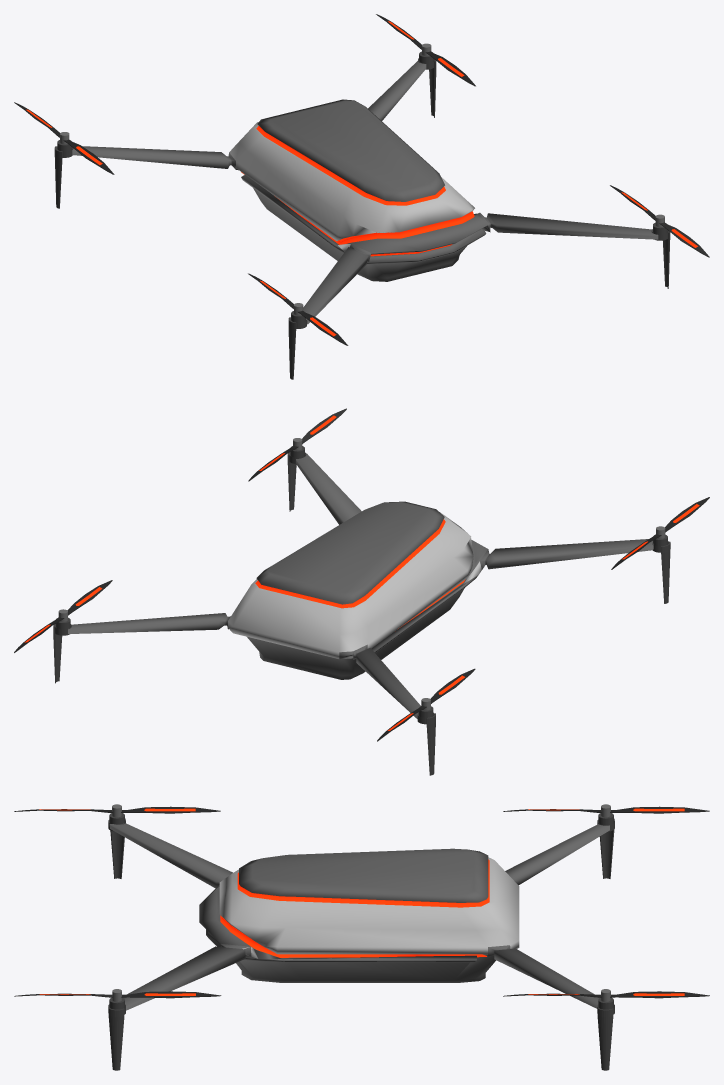
Rendered from drone.glb.
3 renders of one model, top to bottom at view 1: azimuth 30°, elevation 25°; view 2: azimuth 150°, elevation 25°; view 3: azimuth 270°, elevation 25°, orthographic. The views are drawn at different scales.
Parts seen in each view (by area): view 1: Cube, Leg, Leg.001; view 2: Cube, Leg, Leg.001, Leg.002; view 3: Cube, Leg.003, Leg.002, Leg, Leg.001, Cube.009, Cube.005, Cube.001, Cube.003.
Boxes of the visible parts, x1,y1,x2,y2 form: Cube: [72, 61, 658, 324]; Leg: [54, 140, 73, 208]; Leg.001: [288, 311, 306, 379]; Cube: [68, 453, 653, 718]; Leg: [417, 706, 435, 775]; Leg.001: [652, 534, 670, 603]; Leg.002: [53, 617, 71, 683]; Cube: [109, 823, 609, 1010]; Leg.003: [108, 997, 125, 1070]; Leg.002: [597, 997, 614, 1070]; Leg: [597, 813, 614, 878]; Leg.001: [108, 813, 125, 878]; Cube.009: [121, 991, 221, 998]; Cube.005: [610, 991, 709, 998]; Cube.001: [610, 806, 709, 813]; Cube.003: [121, 806, 220, 813].
Size of the model in its own units: 2.94 by 0.7281 by 4.47.
Materials: 1 (1 with a texture image).
